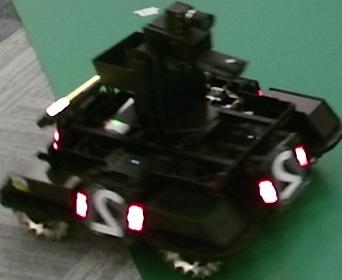armor_2: (260, 147, 308, 204), (77, 192, 145, 231)
light: (47, 74, 101, 115)
